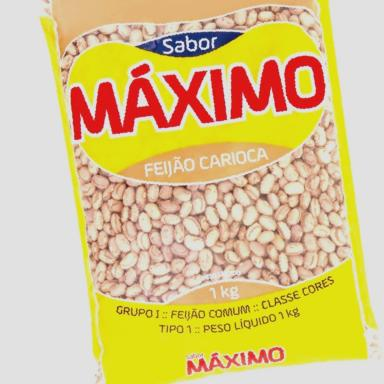beans package: (42, 0, 379, 383)
